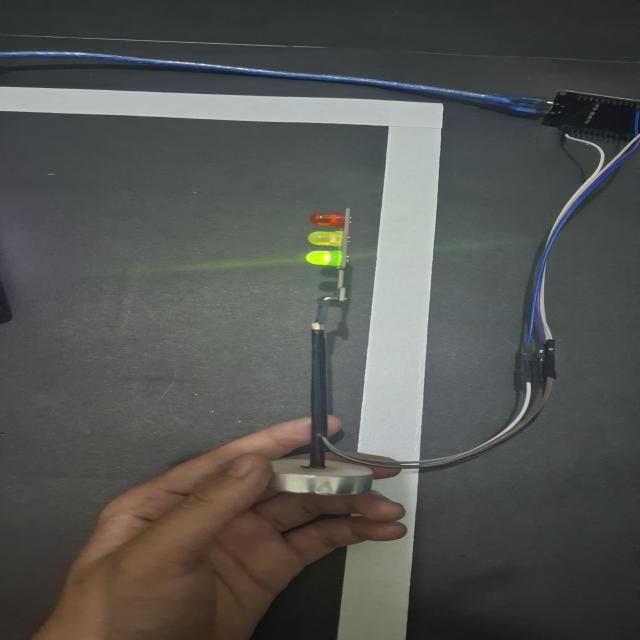Lampu Hijau: (305, 208, 347, 267)
